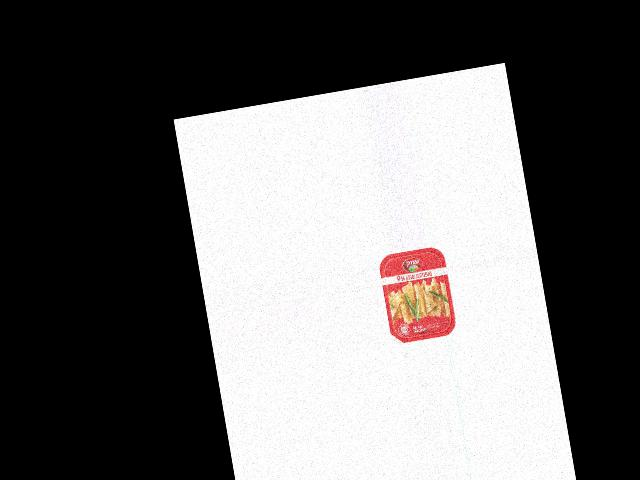cheese: (377, 244, 458, 345)
